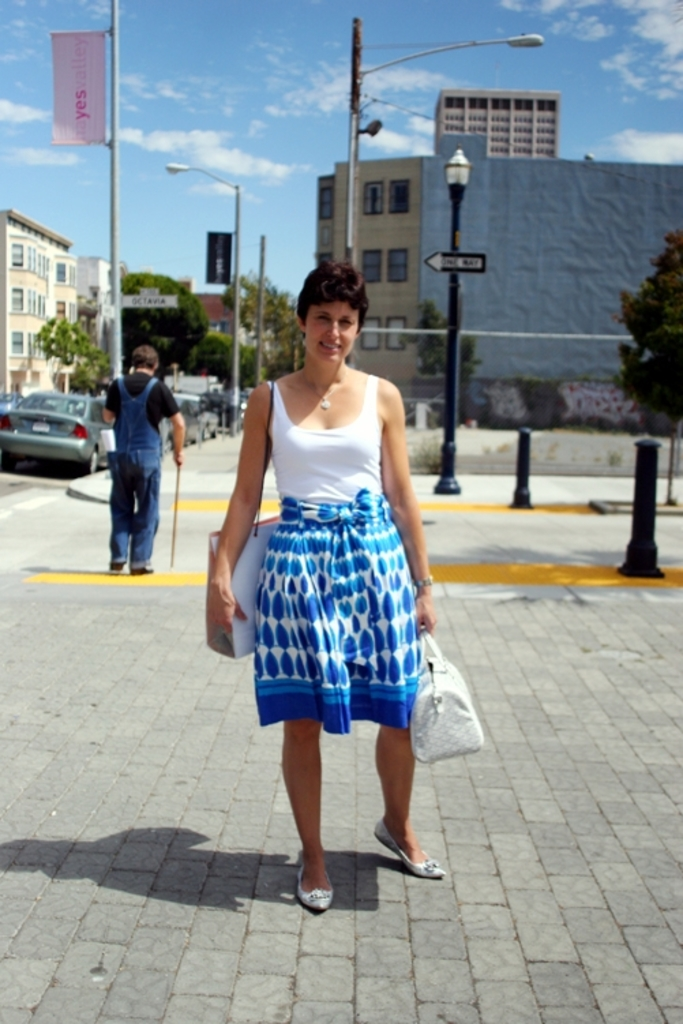Footwear: (349, 799, 442, 897), (297, 847, 331, 911), (134, 569, 154, 574), (115, 566, 123, 573)
